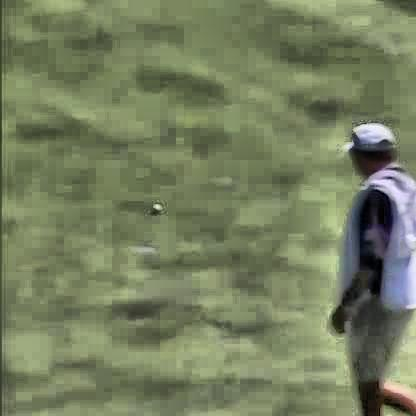golfball: (151, 199, 161, 210)
